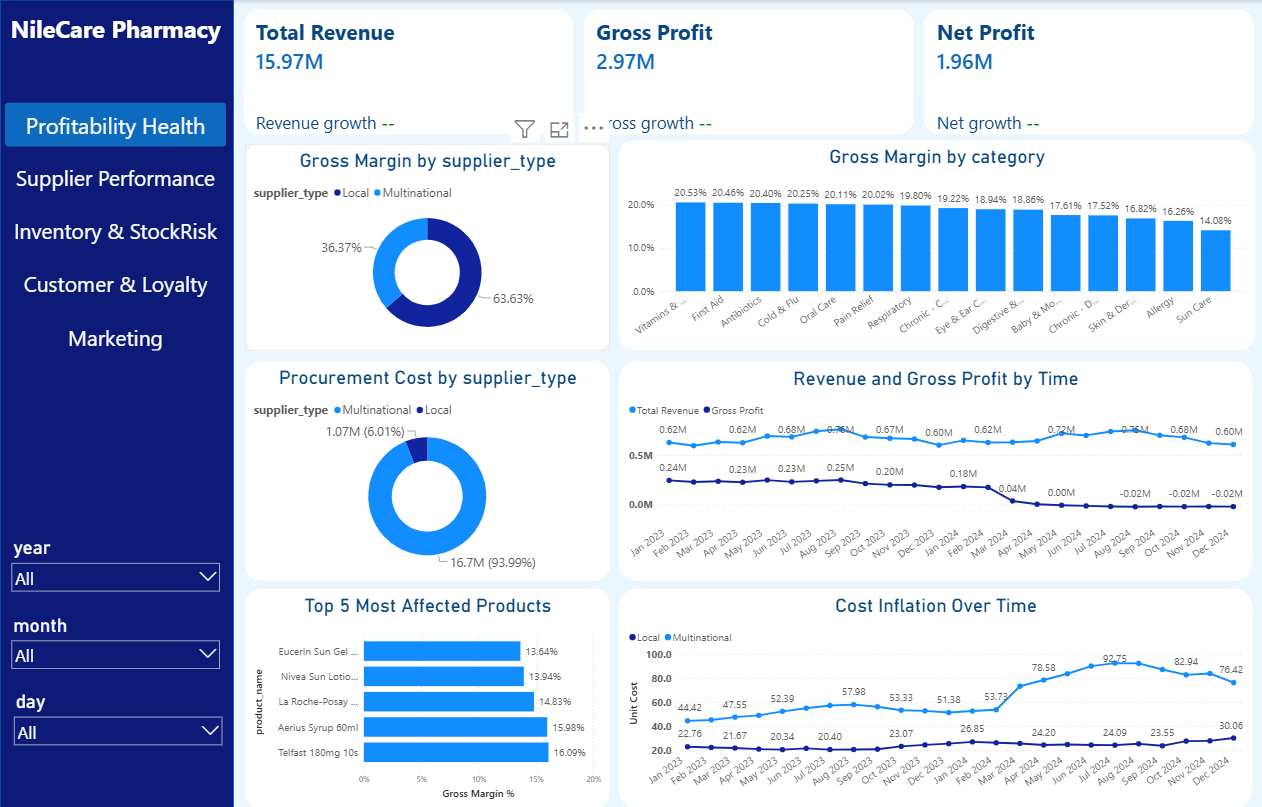

The dashboard page shown, as its layout file describes it:
{"tool":"powerbi","page":{"name":"Profitability   Health","canvas":[2000,1280],"ordinal":0},"visuals":[{"type":"shape","box":[0,0,370,1300],"z":0},{"type":"cardVisual","fields":{"Data":["Measures .Total Revenue","Measures .Gross Profit","Measures .Net Profit"]},"box":[370,0,1630,228],"z":1000},{"type":"textbox","box":[0,15.8,376,71.2],"z":2000},{"type":"lineChart","title":"Revenue and Gross Profit by Time","fields":{"Category":["dwh dim_date.Month year"],"Y":["Measures .Total Revenue","Measures .Gross Profit"]},"box":[979.6,571.9,1003.3,348.3],"z":3000},{"type":"clusteredColumnChart","fields":{"Category":["dwh dim_product.category"],"Y":["Measures .Gross Margin %"]},"box":[979.6,221.6,1007.3,332.5],"z":4000},{"type":"donutChart","fields":{"Category":["dwh dim_supplier.supplier_type"],"Y":["Measures .Gross Margin %"]},"box":[387.9,227.6,577.9,328.5],"z":5000},{"type":"donutChart","title":"Procurement Cost by supplier_type","fields":{"Category":["dwh dim_supplier.supplier_type"],"Y":["Measures .Total Procurement Cost"]},"box":[387.9,571.9,577.9,348.3],"z":6000},{"type":"lineChart","title":"Cost Inflation Over Time","fields":{"Category":["dwh dim_date.Month year"],"Series":["dwh dim_supplier.supplier_type"],"Y":["Measures .Average Unit Procurement Cost"]},"box":[979.6,932.1,1003.3,348.3],"z":7000},{"type":"clusteredBarChart","title":"Top 5 Most Affected Products","fields":{"Category":["dwh dim_product.product_name"],"Y":["Measures .Gross Margin %"]},"box":[387.9,932.1,577.9,348.3],"z":8000},{"type":"pageNavigator","box":[7.9,162.3,350,409.6],"z":9000},{"type":"slicer","fields":{"Values":["dwh dim_date.year_number"]},"box":[8.5,845.4,350.3,122.7],"z":10000},{"type":"slicer","fields":{"Values":["dwh dim_date.month_name"]},"box":[8.5,967.1,350,122],"z":11000},{"type":"slicer","fields":{"Values":["dwh dim_date.day_name"]},"box":[12.8,1088.8,350.1,121.7],"z":12000}]}

Visuals, with their boxes on the page's 2000x1280 design canvas (x1, y1, x2, y2). These are canvas units, not pixel positions in the 1262x807 screenshot, which may show the page scaled, cropped or inside an application window:
shape: <region>0, 0, 370, 1300</region>
cardVisual - Measures .Total Revenue x Measures .Gross Profit: <region>370, 0, 2000, 228</region>
textbox: <region>0, 16, 376, 87</region>
"Revenue and Gross Profit by Time" lineChart: <region>980, 572, 1983, 920</region>
clusteredColumnChart - dwh dim_product.category x Measures .Gross Margin %: <region>980, 222, 1987, 554</region>
donutChart - dwh dim_supplier.supplier_type x Measures .Gross Margin %: <region>388, 228, 966, 556</region>
"Procurement Cost by supplier_type" donutChart: <region>388, 572, 966, 920</region>
"Cost Inflation Over Time" lineChart: <region>980, 932, 1983, 1280</region>
"Top 5 Most Affected Products" clusteredBarChart: <region>388, 932, 966, 1280</region>
pageNavigator: <region>8, 162, 358, 572</region>
slicer - dwh dim_date.year_number: <region>8, 845, 359, 968</region>
slicer - dwh dim_date.month_name: <region>8, 967, 358, 1089</region>
slicer - dwh dim_date.day_name: <region>13, 1089, 363, 1210</region>
